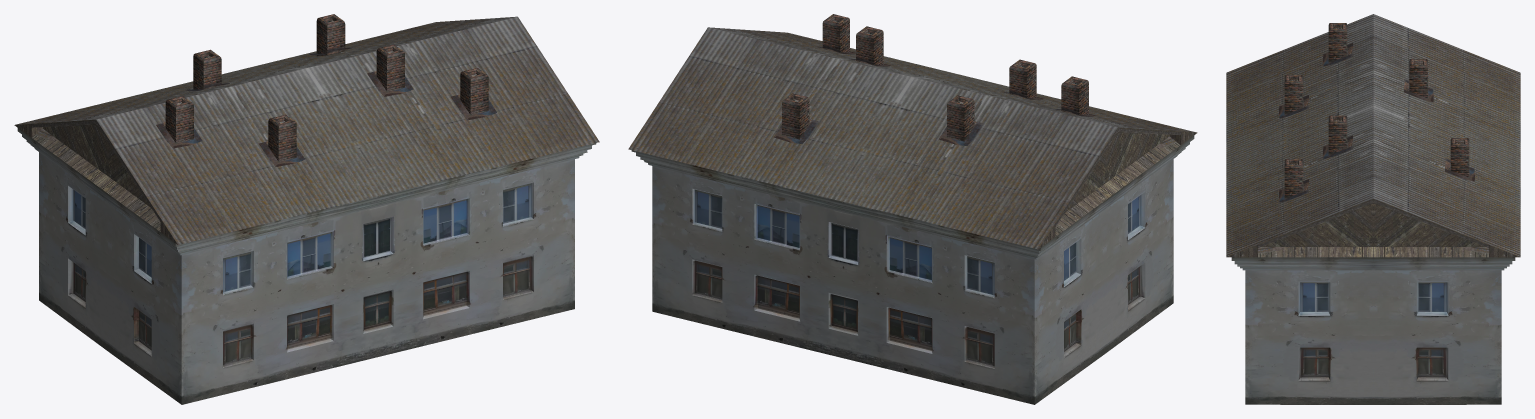
Rendered from H0use.fbx.
3 renders of one model, left to right at view 1: azimuth 30°, elevation 25°; view 2: azimuth 150°, elevation 25°; view 3: azimuth 270°, elevation 25°, orthographic. The views are drawn at different scales.
Parts seen in each view (by area): view 1: Дом2.001, Труба.005, Труба.004, Труба.002, Труба.003, Труба.007, Труба.006; view 2: Дом2.001, Труба.007, Труба.006, Труба.003, Труба.004, Труба.005, Труба.002; view 3: Дом2.001, Труба.003, Труба.007, Труба.002, Труба.005, Труба.004, Труба.006.
Part boxes in pixels (left/top/right/bottom): Дом2.001: left=14, top=16, right=599, bottom=404; Труба.005: left=156, top=96, right=202, bottom=148; Труба.004: left=258, top=114, right=304, bottom=166; Труба.002: left=451, top=68, right=496, bottom=120; Труба.003: left=367, top=44, right=413, bottom=96; Труба.007: left=309, top=14, right=354, bottom=56; Труба.006: left=185, top=49, right=229, bottom=91; Дом2.001: left=628, top=27, right=1197, bottom=404; Труба.007: left=774, top=93, right=818, bottom=143; Труба.006: left=938, top=95, right=983, bottom=145; Труба.003: left=849, top=26, right=891, bottom=66; Труба.004: left=1000, top=59, right=1044, bottom=99; Труба.005: left=1053, top=76, right=1096, bottom=116; Труба.002: left=815, top=14, right=855, bottom=54; Дом2.001: left=1226, top=14, right=1520, bottom=404; Труба.003: left=1323, top=115, right=1352, bottom=158; Труба.007: left=1445, top=138, right=1474, bottom=181; Труба.002: left=1279, top=159, right=1308, bottom=202; Труба.005: left=1323, top=23, right=1352, bottom=66; Труба.004: left=1279, top=75, right=1308, bottom=118; Труба.006: left=1404, top=59, right=1433, bottom=102.
Bounding box in the file's own units: 1995 × 1147 × 1343.
